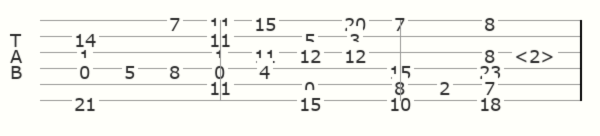0: (79, 60, 94, 77), (214, 60, 229, 77), (304, 76, 319, 93)
1: (79, 44, 94, 61), (214, 44, 229, 61)
10: (389, 92, 415, 109)
11: (209, 76, 235, 93), (209, 12, 235, 29), (209, 28, 235, 45), (254, 44, 280, 61)
12: (299, 44, 325, 61), (344, 44, 370, 61)
14: (74, 28, 100, 45)
15: (254, 12, 280, 29), (299, 92, 325, 109), (389, 60, 415, 77)
18: (479, 92, 505, 109)
2: (439, 76, 454, 93)
20: (344, 12, 370, 29)
21: (74, 92, 100, 109)
23: (479, 60, 505, 77)
3: (349, 28, 364, 45)
4: (259, 60, 274, 77)
5: (124, 60, 139, 77), (304, 28, 319, 45)
7: (169, 12, 184, 29), (394, 12, 409, 29), (484, 76, 499, 93)
8: (169, 60, 184, 77), (394, 76, 409, 93), (484, 44, 499, 61), (484, 12, 499, 29)
harmonic: (514, 44, 559, 61)
